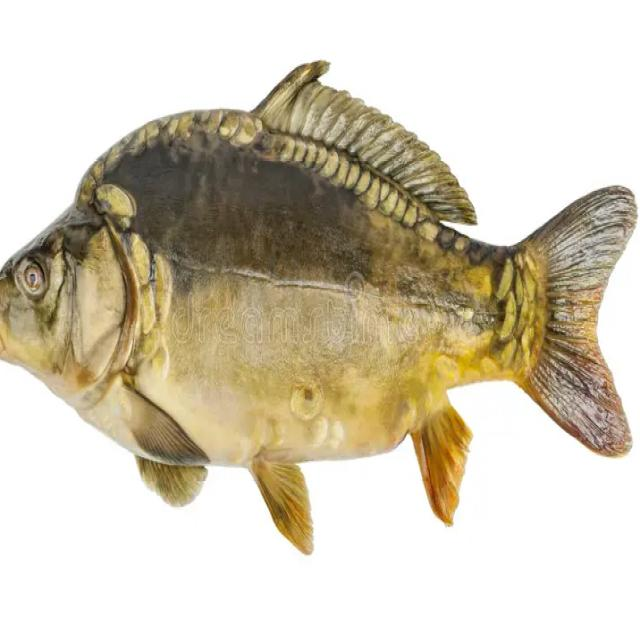Common carp: (0, 54, 637, 554)
